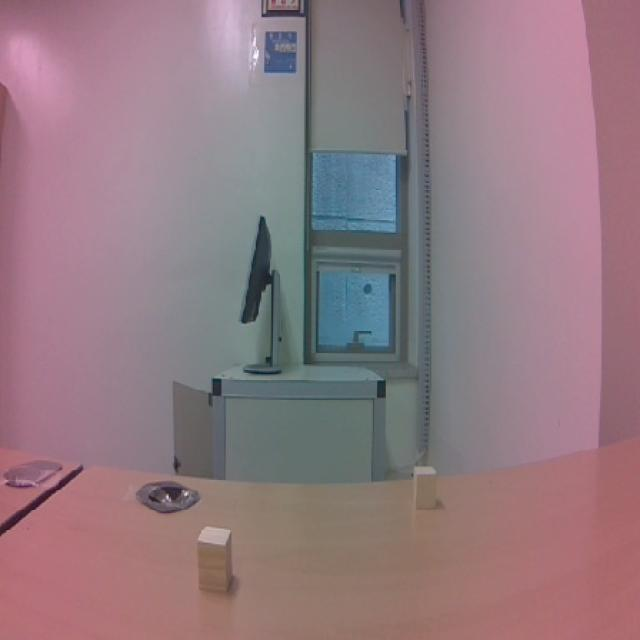obstacle: (185, 512, 251, 604), (408, 456, 448, 514)
